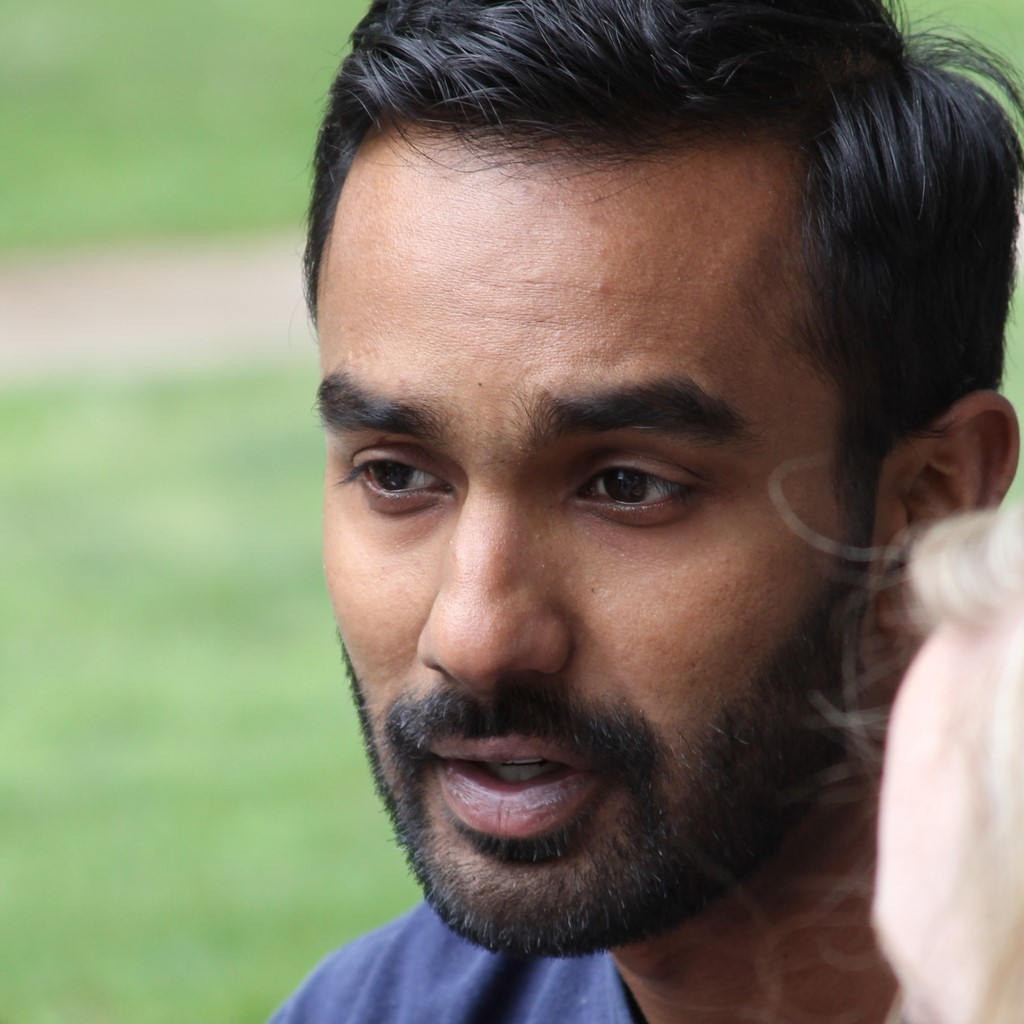sin_mascara: (310, 23, 971, 962)
